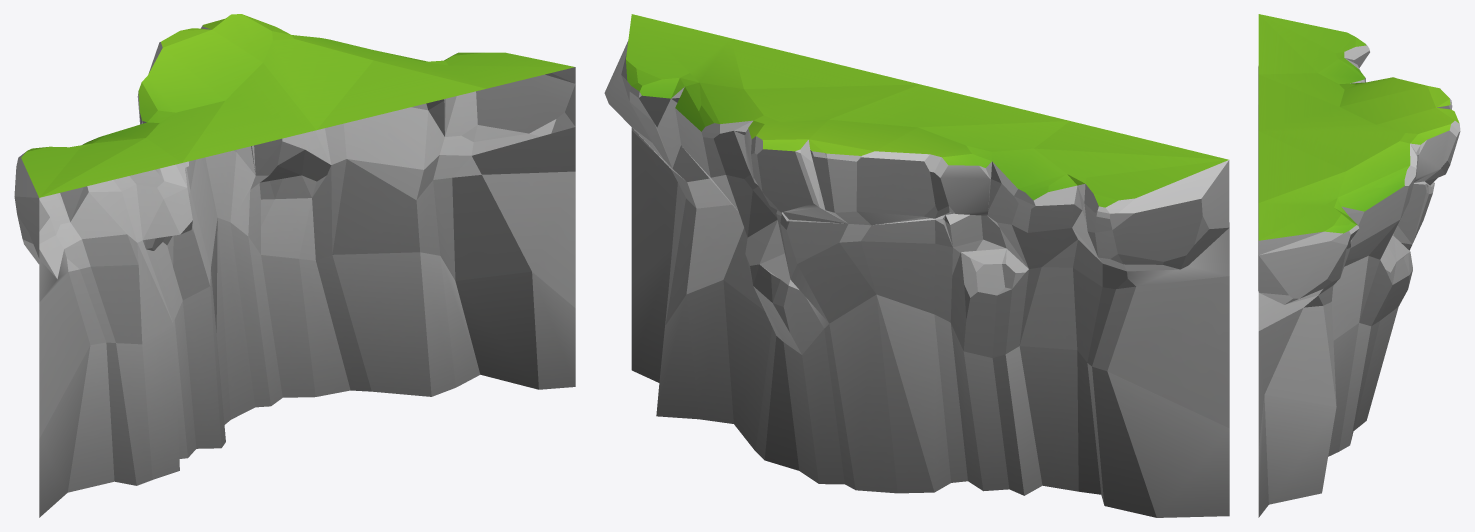
Rendered from Cliff_Plateau_Cap2.fbx.
3 views of the same model, side by side, from view 1: azimuth 30°, elevation 25°; view 2: azimuth 150°, elevation 25°; view 3: azimuth 270°, elevation 25° (orthographic). The views are drawn at different scales.
Parts seen in each view (by area): view 1: Cliff_Plateau_Cap2; view 2: Cliff_Plateau_Cap2; view 3: Cliff_Plateau_Cap2.
Part boxes in pixels (bbox=[...]): Cliff_Plateau_Cap2: bbox=[14, 14, 575, 517]; Cliff_Plateau_Cap2: bbox=[604, 14, 1229, 517]; Cliff_Plateau_Cap2: bbox=[1258, 14, 1460, 517].
Bounding box in the file's own units: 52.21 × 31.82 × 19.4.
